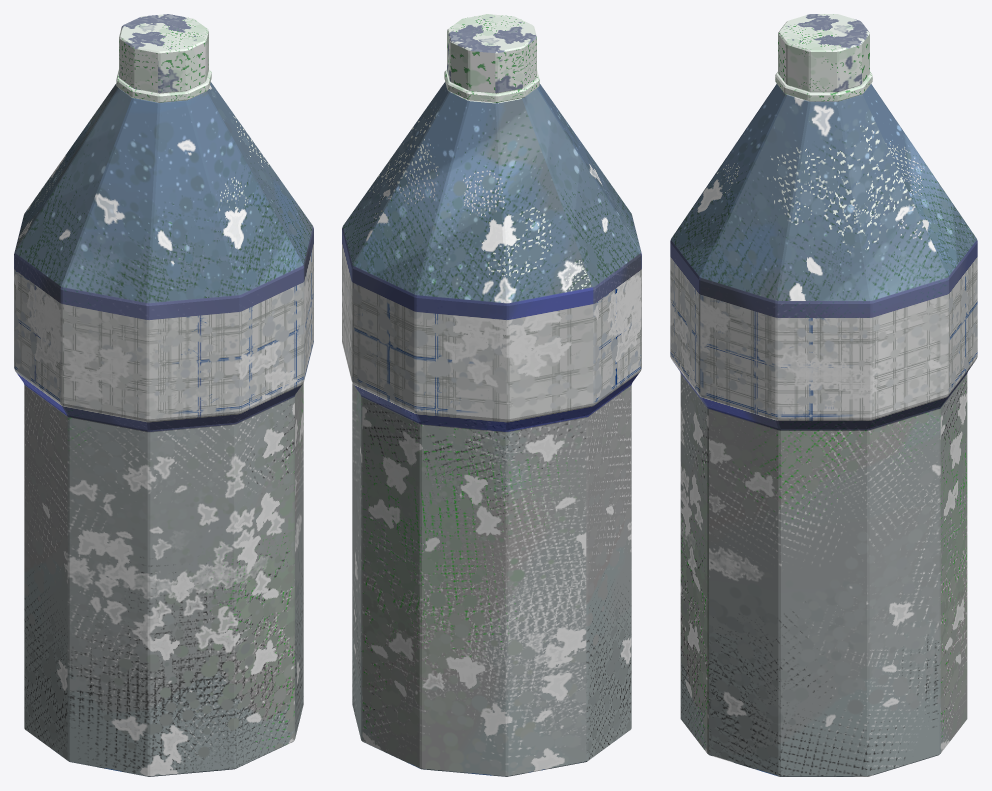
The model's file is bottle.fbx.
3 renders of one model, left to right at view 1: azimuth 30°, elevation 25°; view 2: azimuth 150°, elevation 25°; view 3: azimuth 270°, elevation 25°, orthographic.
Visible parts, largest first — view 1: Cylinder; view 2: Cylinder; view 3: Cylinder.
Part boxes in pixels (x1=…): Cylinder: x1=14, y1=14, x2=313, y2=776; Cylinder: x1=342, y1=14, x2=641, y2=776; Cylinder: x1=670, y1=14, x2=977, y2=776.
Bounding box in the file's own units: 204 × 528 × 214.
Materials: 1 (1 with a texture image).
